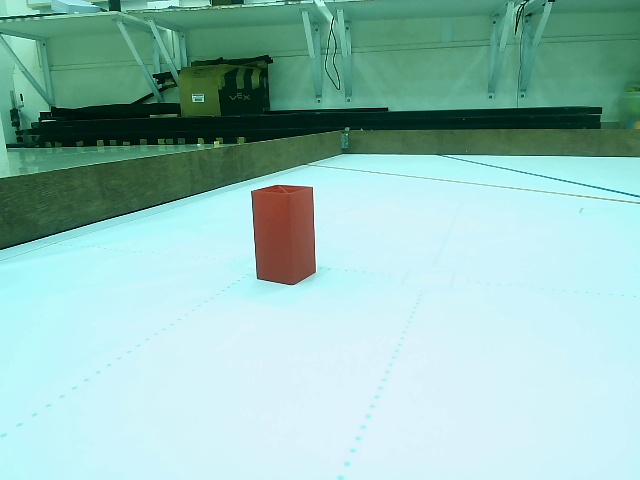red: (255, 189, 316, 282)
